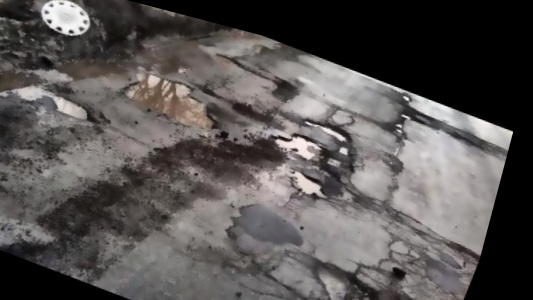pothole: (117, 62, 231, 138), (318, 267, 459, 300), (269, 122, 326, 164), (45, 88, 97, 125), (298, 112, 355, 145), (285, 166, 334, 202)
